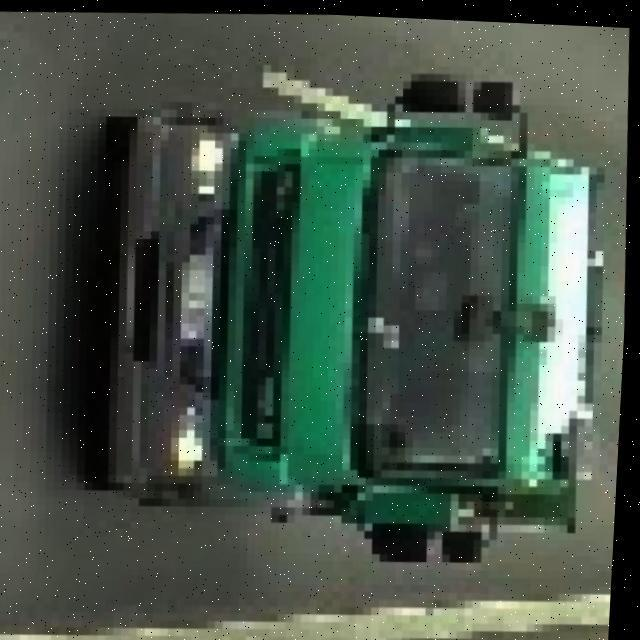truck: (55, 43, 622, 568)
